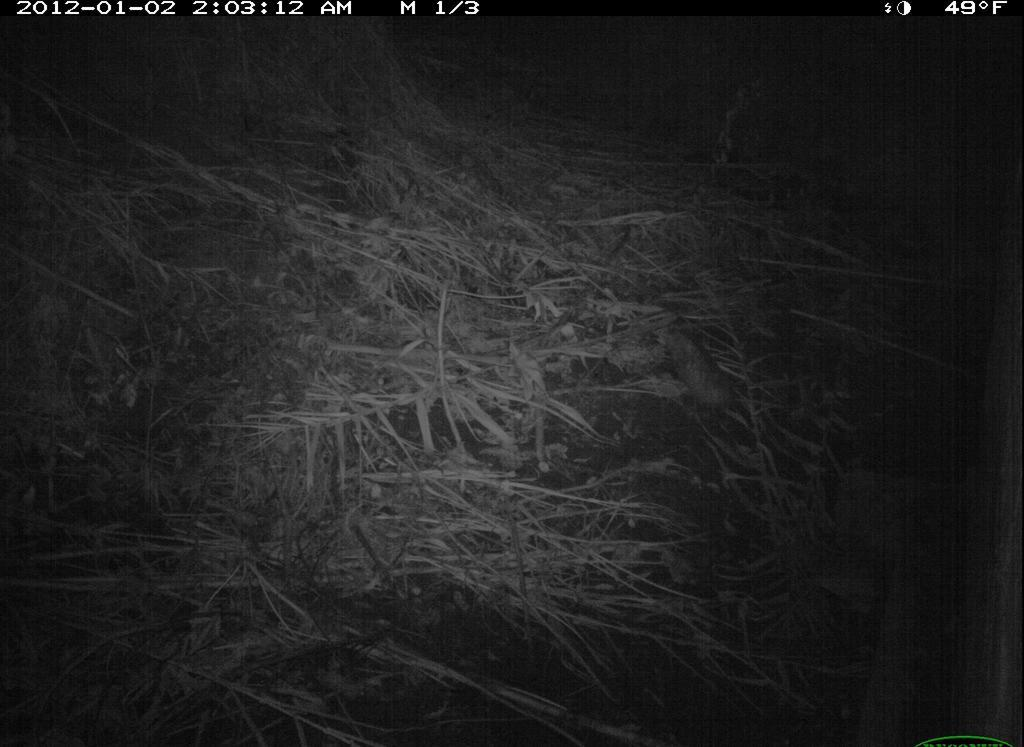opossum: (651, 294, 748, 443)
